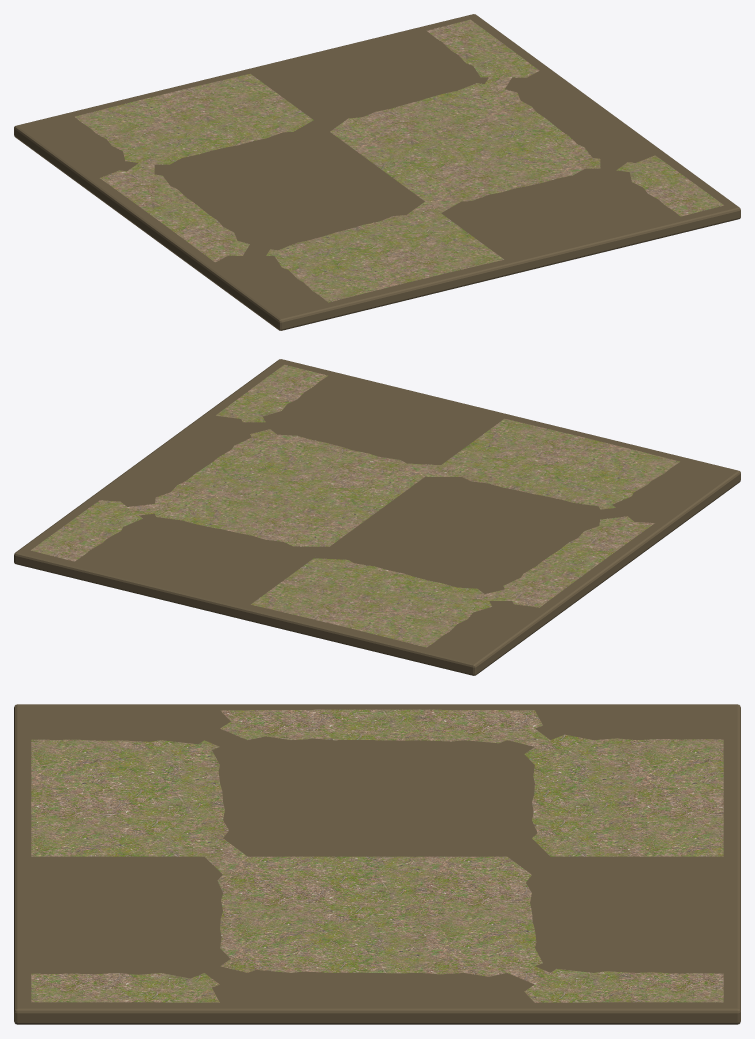
Rendered from terrain.glb.
3 views of the same model, one above another, from view 1: azimuth 30°, elevation 25°; view 2: azimuth 150°, elevation 25°; view 3: azimuth 270°, elevation 25° (orthographic). The views are drawn at different scales.
Visible parts, largest first — view 1: Terrain_Soil_Base, Terrain_Grass_Surface; view 2: Terrain_Soil_Base, Terrain_Grass_Surface; view 3: Terrain_Soil_Base, Terrain_Grass_Surface.
Boxes of the visible parts, x1,y1,x2,y2 form: Terrain_Soil_Base: (14, 14, 740, 330); Terrain_Grass_Surface: (75, 19, 723, 302); Terrain_Soil_Base: (14, 359, 740, 675); Terrain_Grass_Surface: (31, 364, 679, 647); Terrain_Soil_Base: (14, 704, 740, 1024); Terrain_Grass_Surface: (31, 709, 723, 1002).
Bounding box in the file's own units: 25 × 0.6332 × 25.
Materials: 2 (1 with a texture image).
